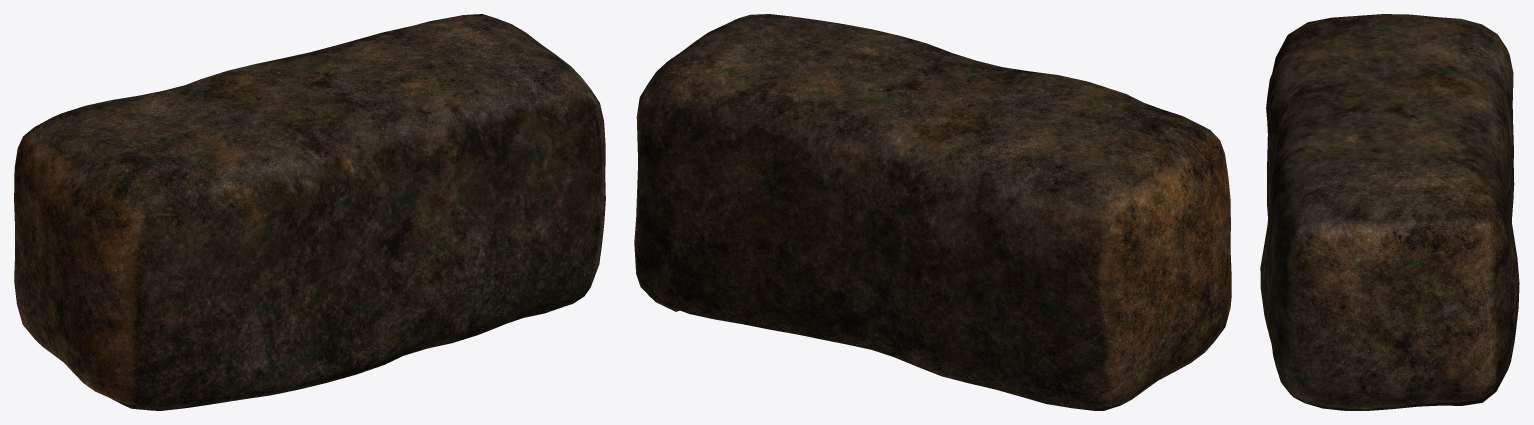
Rendered from SM_TI_RockBlock_0.gltf.
The picture shows the model from 3 angles, left to right: view 1: azimuth 30°, elevation 25°; view 2: azimuth 150°, elevation 25°; view 3: azimuth 270°, elevation 25°; orthographic projection. The views are drawn at different scales.
Visible parts, largest first — view 1: SM_TI_RockBlock_0; view 2: SM_TI_RockBlock_0; view 3: SM_TI_RockBlock_0.
Boxes of the visible parts, x1,y1,x2,y2 form: SM_TI_RockBlock_0: [14, 14, 605, 410]; SM_TI_RockBlock_0: [634, 14, 1231, 410]; SM_TI_RockBlock_0: [1260, 14, 1519, 410].
Size of the model in its own units: 19.07 by 8.47 by 9.25.
1 material, 1 textured.
